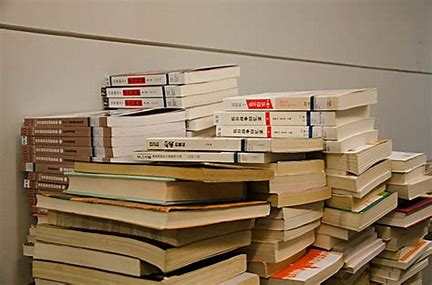book: (103, 62, 242, 89), (100, 88, 237, 110)
